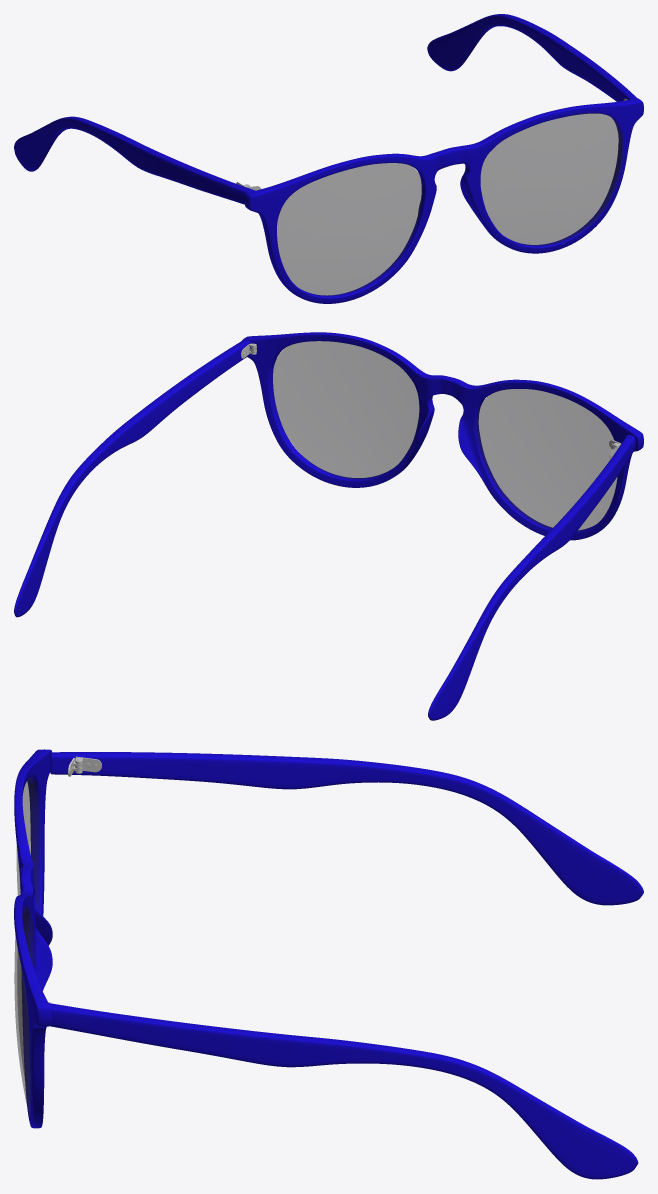
File: blue.glb
The picture shows the model from 3 angles, top to bottom: view 1: azimuth 30°, elevation 25°; view 2: azimuth 150°, elevation 25°; view 3: azimuth 270°, elevation 25°; orthographic projection. The views are drawn at different scales.
Visible parts, largest first — view 1: Sphere002, Sphere001, Line001, Line003, Line002; view 2: Sphere001, Sphere002, Line001, Line002, Line003; view 3: Line002, Line003, Line001, Sphere001, Sphere002.
Part boxes in pixels (x1,y1,x2,y2): Sphere002: (277,163,422,295); Sphere001: (480,112,623,245); Line001: (244,98,643,303); Line003: (14,116,255,204); Line002: (427,14,636,101); Sphere001: (273,341,419,479); Sphere002: (476,389,617,531); Line001: (242,332,643,540); Line002: (14,340,250,617); Line003: (428,434,635,720); Line002: (49,1003,638,1179); Line003: (50,752,643,905); Line001: (14,749,52,1128); Sphere001: (14,906,34,1117); Sphere002: (16,777,39,910).
Size of the model in its own units: 0.1621 by 0.0513 by 0.1506.
